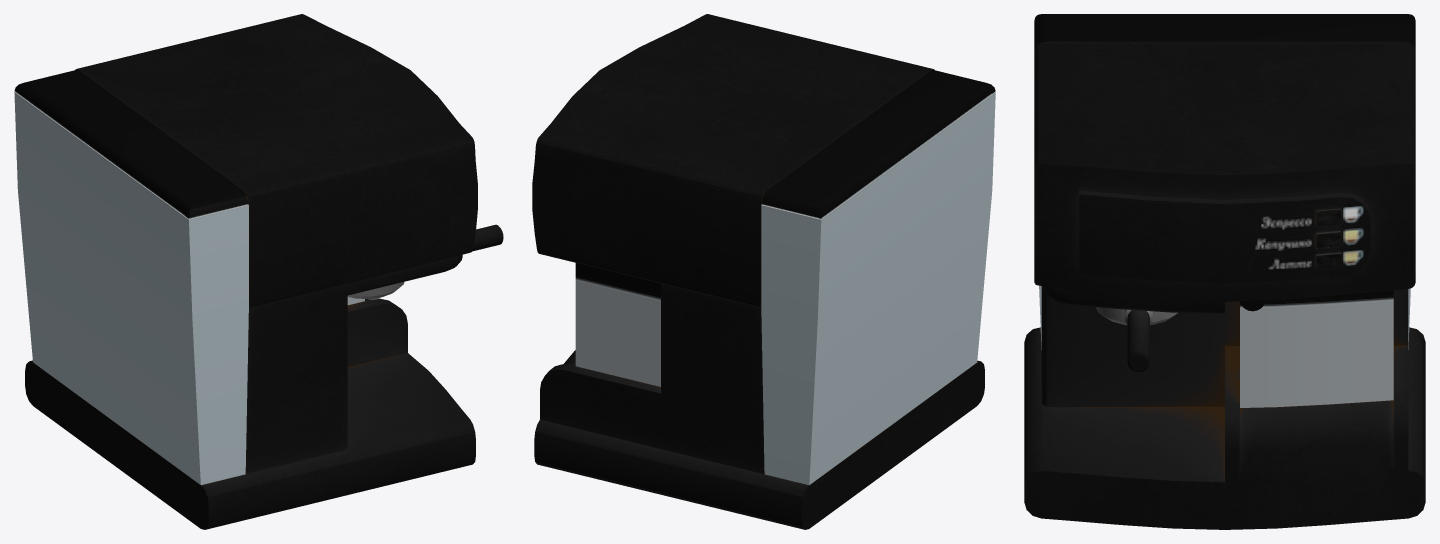
Rendered from espresso_coffee_machine.glb.
The picture shows the model from 3 angles, left to right: view 1: azimuth 30°, elevation 25°; view 2: azimuth 150°, elevation 25°; view 3: azimuth 270°, elevation 25°; orthographic projection. The views are drawn at different scales.
Visible parts, largest first — view 1: Base.001; view 2: Base.001; view 3: Base.001.
Boxes of the visible parts, left/top/right/bottom form: Base.001: left=14, top=14, right=503, bottom=529; Base.001: left=532, top=14, right=995, bottom=529; Base.001: left=1024, top=14, right=1425, bottom=529.
Size of the model in its own units: 2.39 by 2.08 by 2.12.
1 material, 1 textured.
